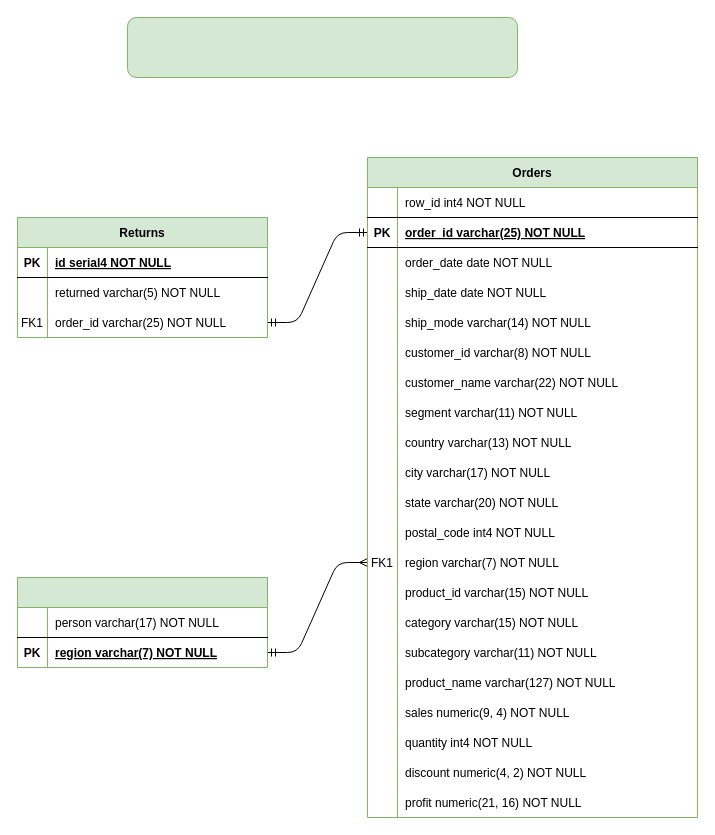
This 715x835 diagram has some shape labels left out. Each missing label, with the box of its shape:
People: (16, 576, 268, 668)
Физическая модель данных Superstore Гадильшина Валентина Евгеньевна: (126, 16, 518, 78)
